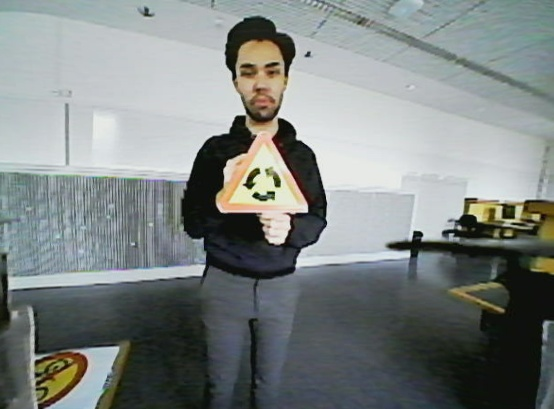roundabout_warning: (209, 127, 312, 220)
